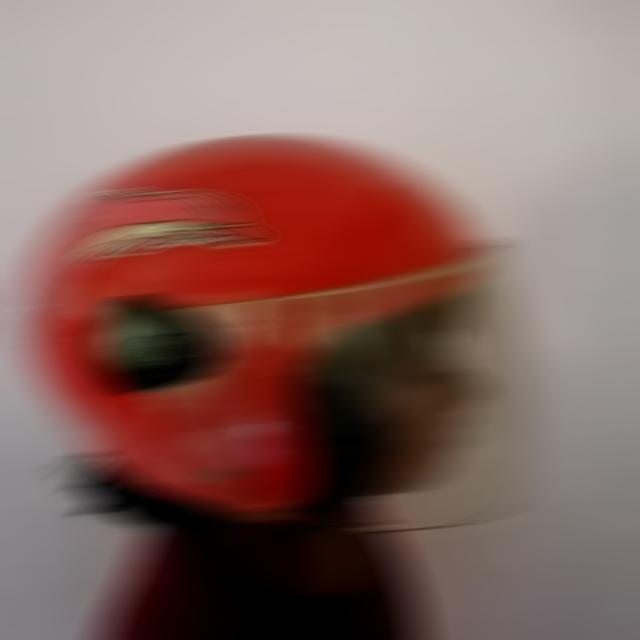With Helmet: (12, 132, 547, 534)
